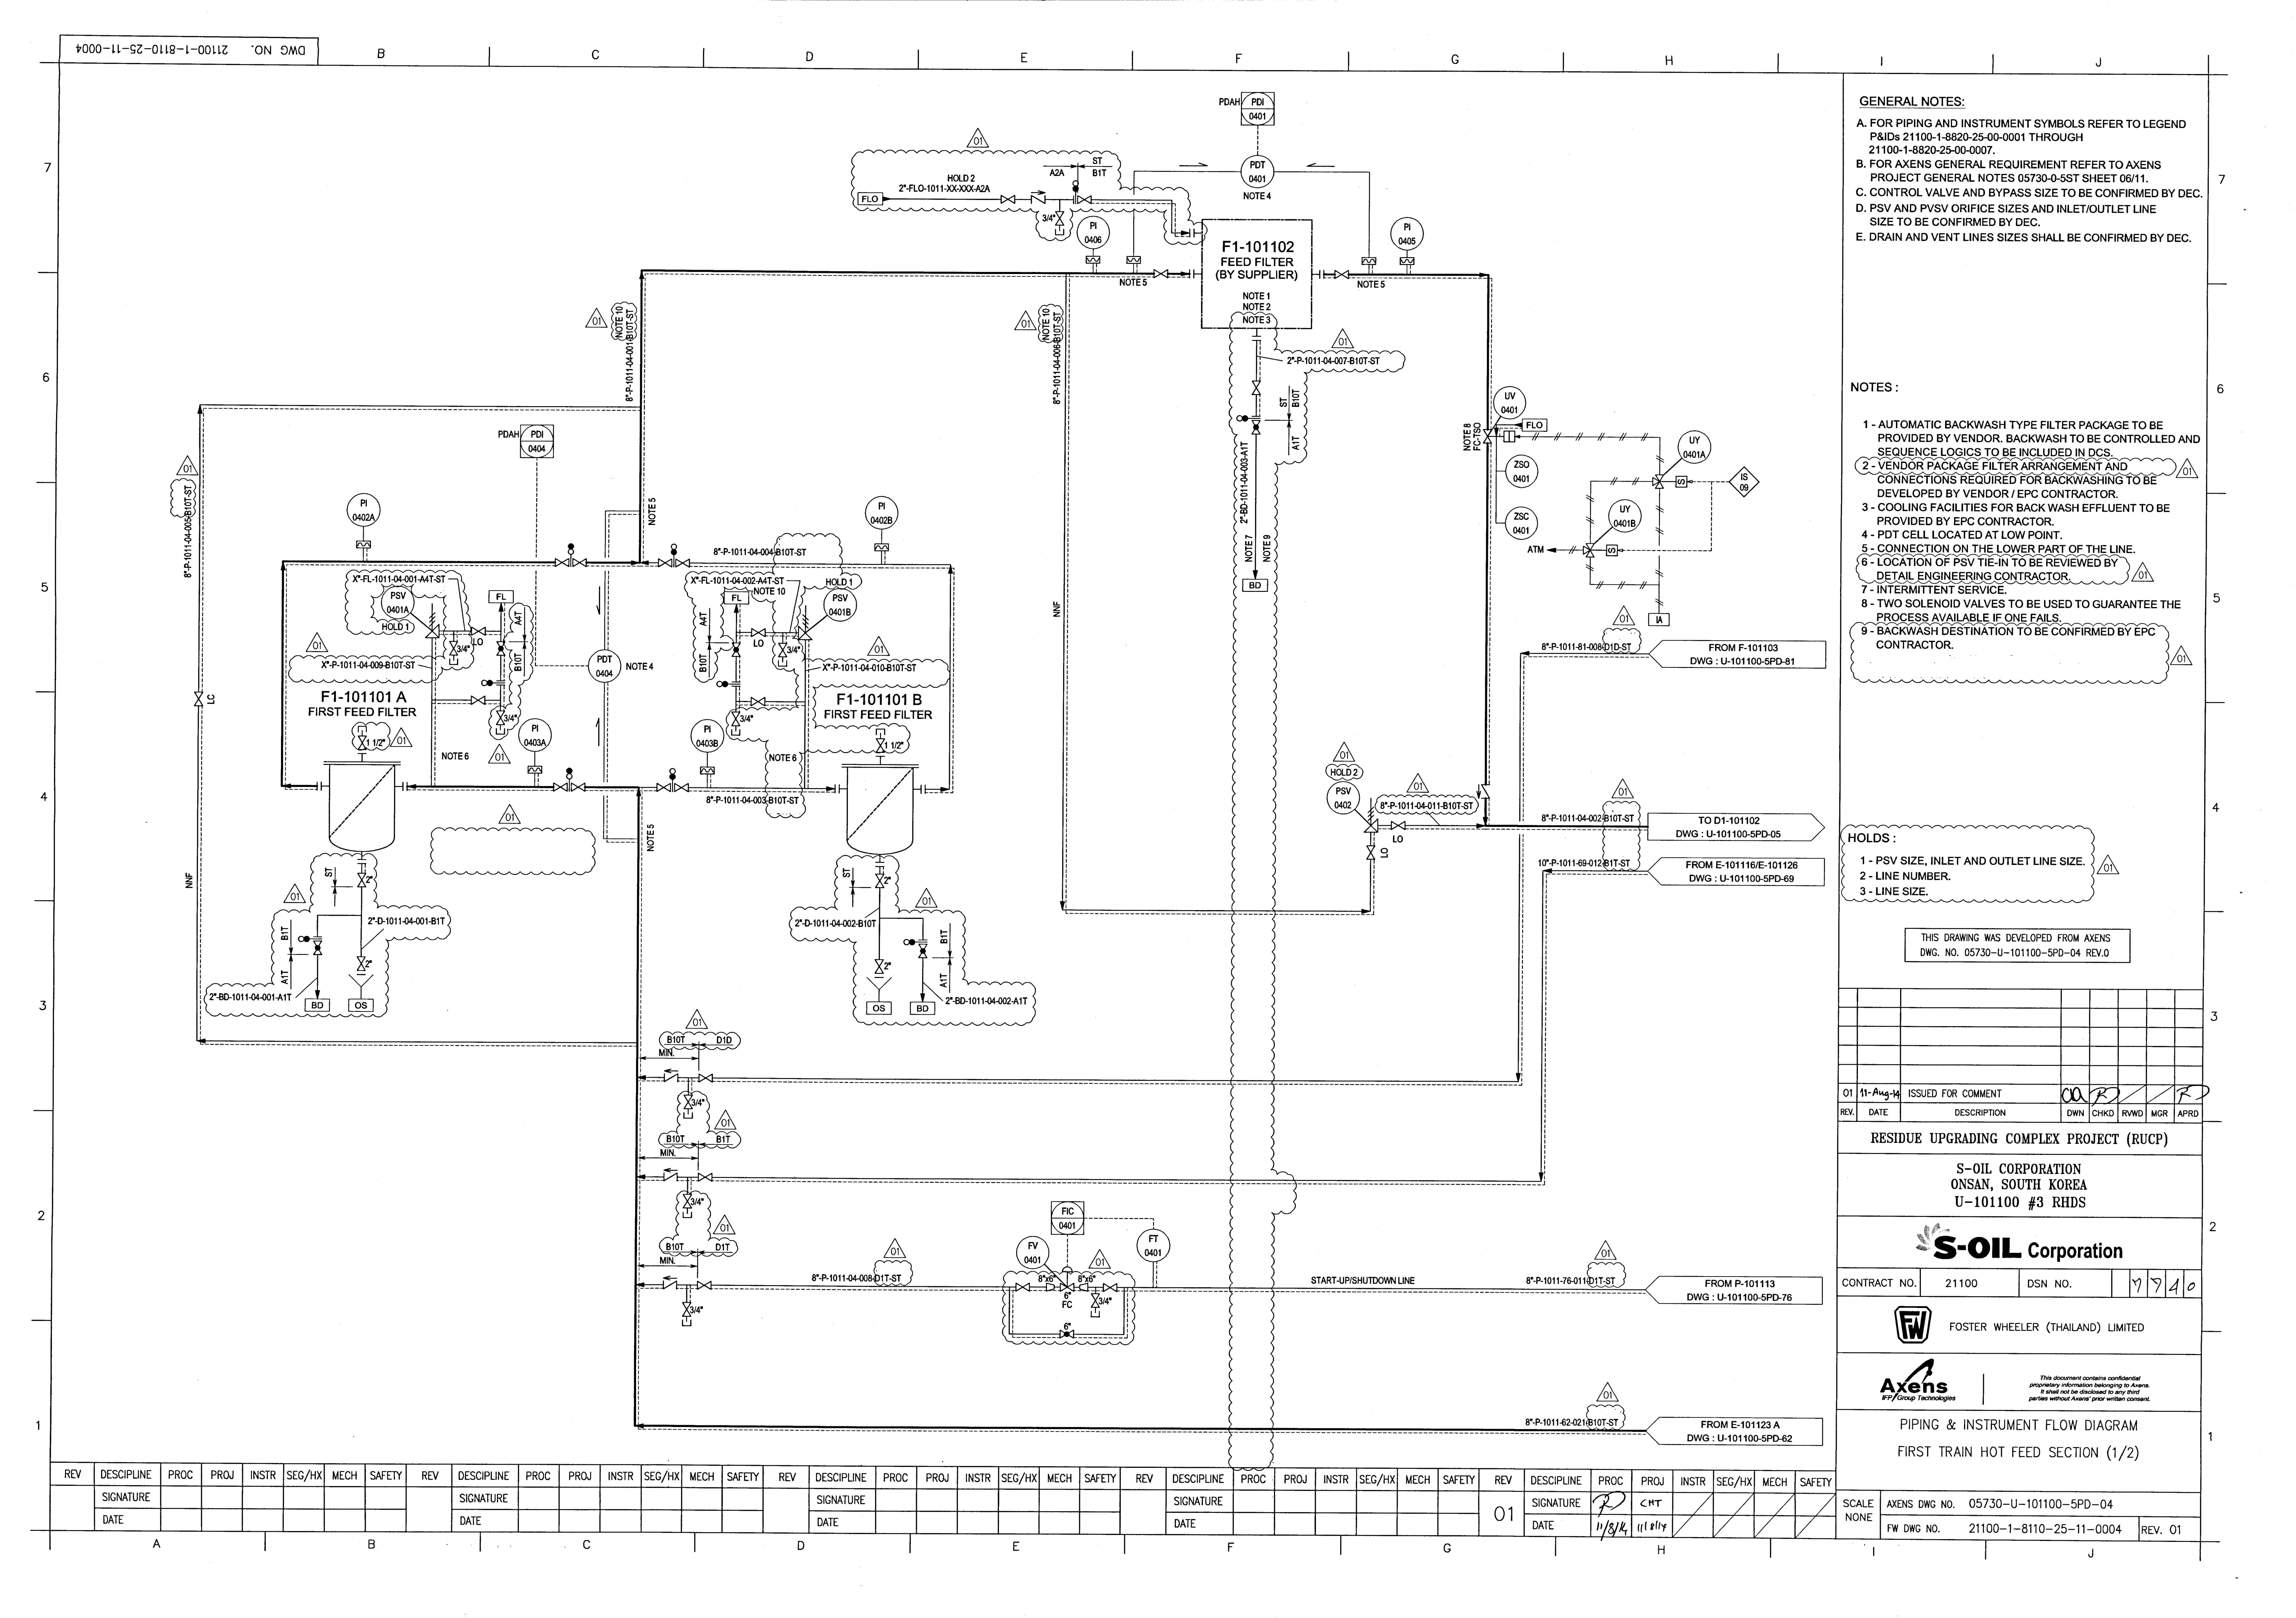butterfly0: (1058, 1329, 1075, 1340)
butterfly90: (1250, 419, 1263, 436), (496, 639, 506, 658), (312, 940, 324, 956), (918, 942, 928, 960), (732, 641, 741, 658)
reduce0: (1046, 1282, 1056, 1292)
reduce180: (1079, 1282, 1089, 1292)
valvecontrol90: (1060, 1266, 1075, 1292)
